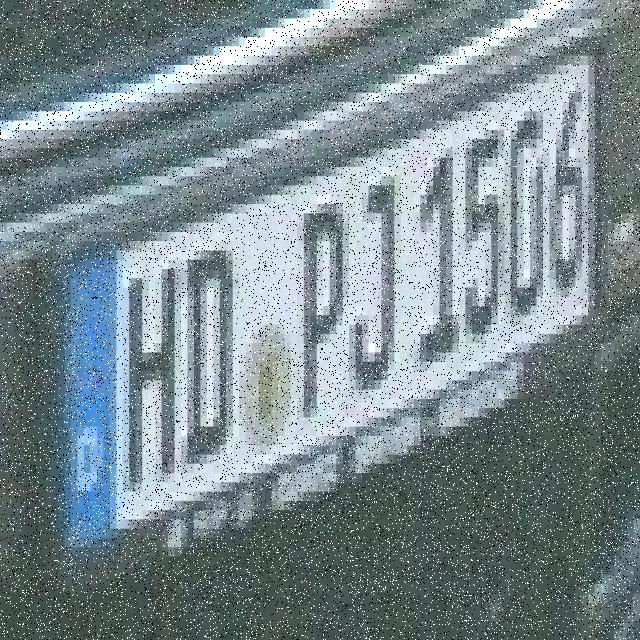licenseplate: (40, 27, 614, 607)
